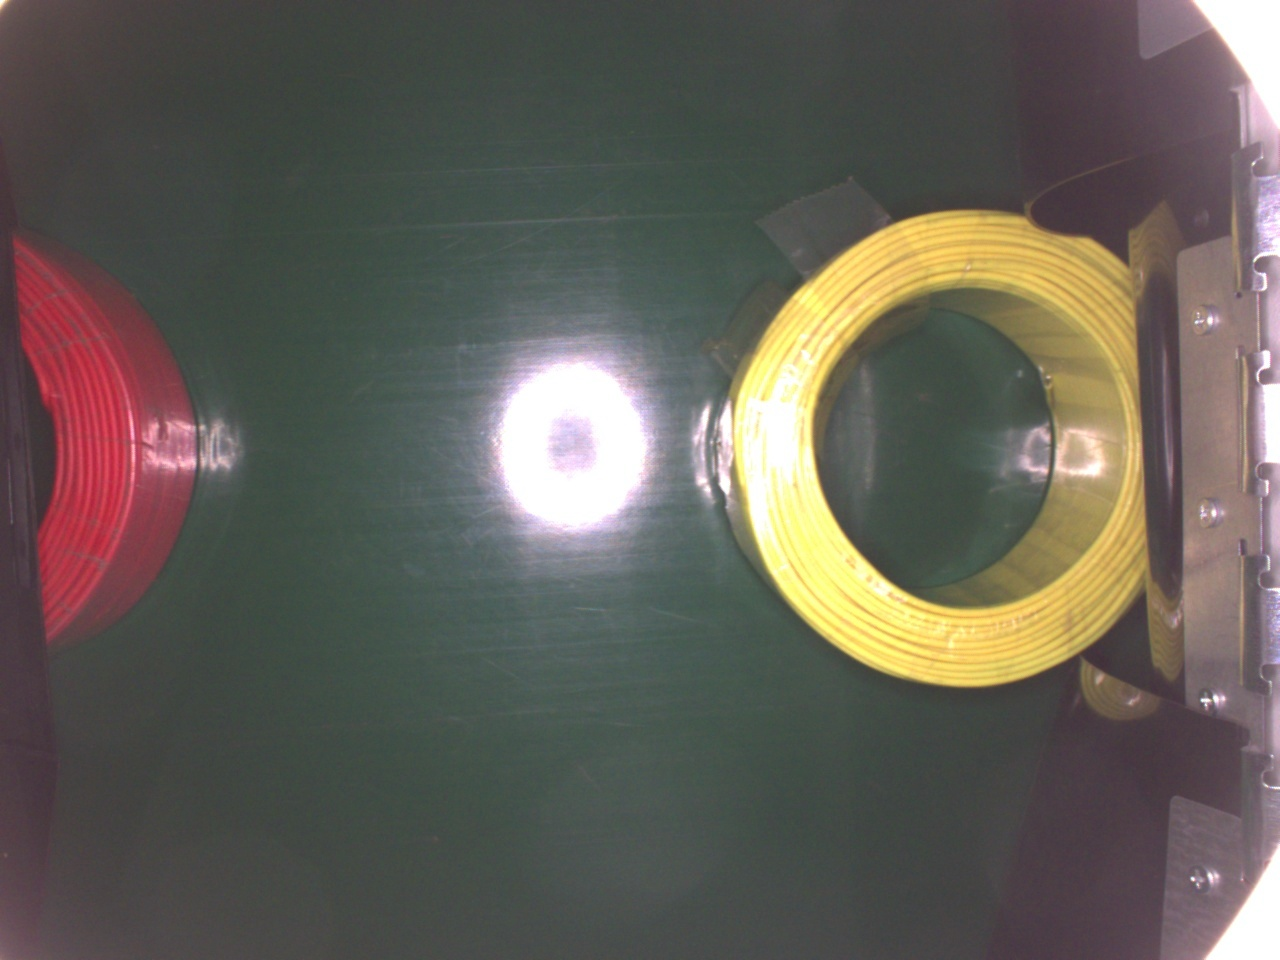red: (12, 209, 201, 658)
yellow: (705, 199, 1147, 685)
